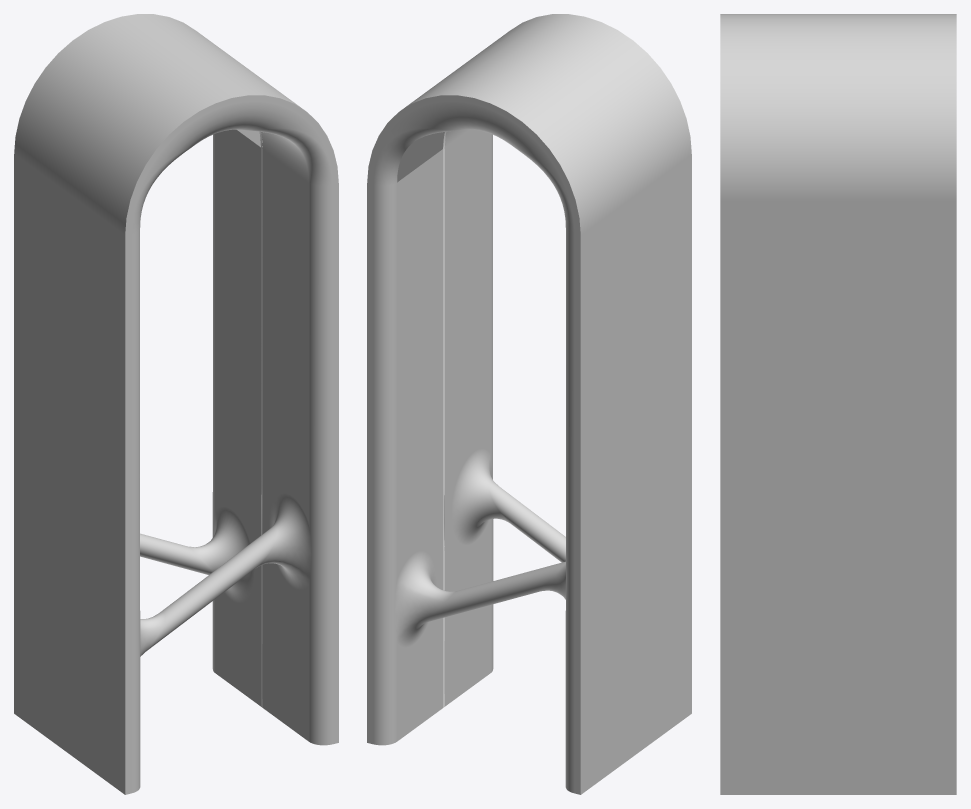
The model's file is floorlamp.glb.
The picture shows the model from 3 angles, left to right: view 1: azimuth 30°, elevation 25°; view 2: azimuth 150°, elevation 25°; view 3: azimuth 270°, elevation 25°; orthographic projection. The views are drawn at different scales.
Visible parts, largest first — view 1: Body6, Body9; view 2: Body6, Body9; view 3: Body6.
Part boxes in pixels (bbox=[...]): Body6: bbox=[14, 14, 338, 794]; Body9: bbox=[259, 131, 262, 707]; Body6: bbox=[367, 14, 691, 794]; Body9: bbox=[443, 131, 446, 707]; Body6: bbox=[720, 14, 956, 794].
Size of the model in its own units: 0.1524 by 0.4572 by 0.1372.
2 materials, 1 textured.
